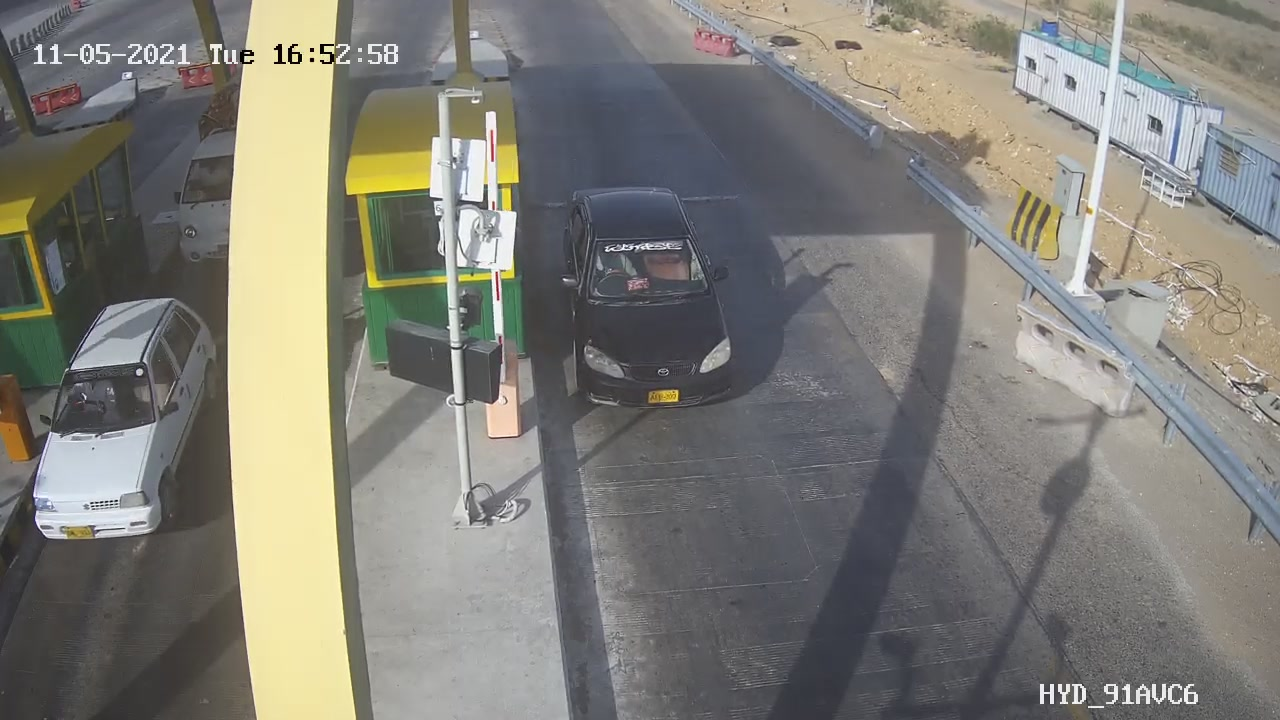F1: (538, 164, 760, 435)
